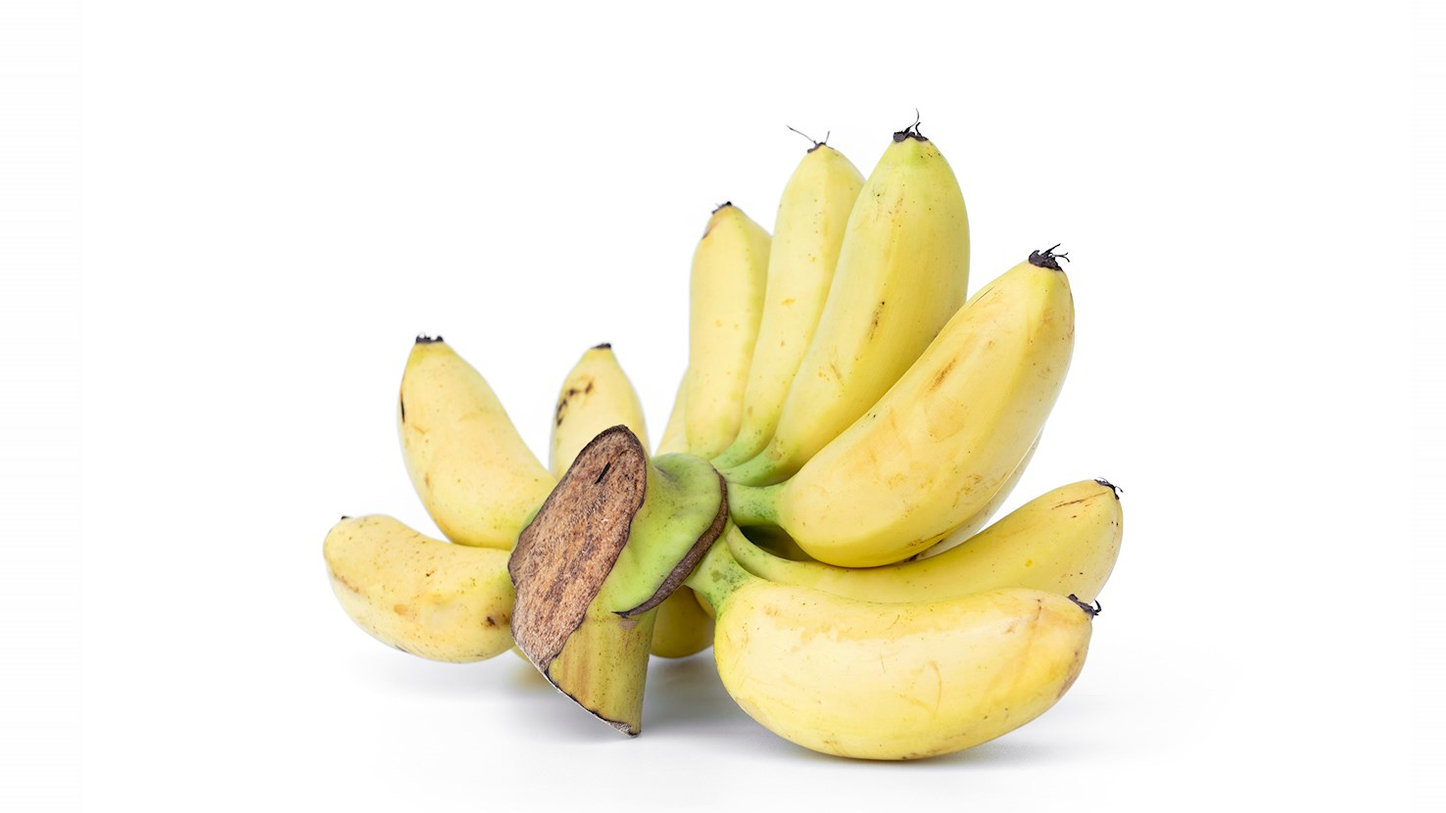banana: (297, 114, 1129, 776)
